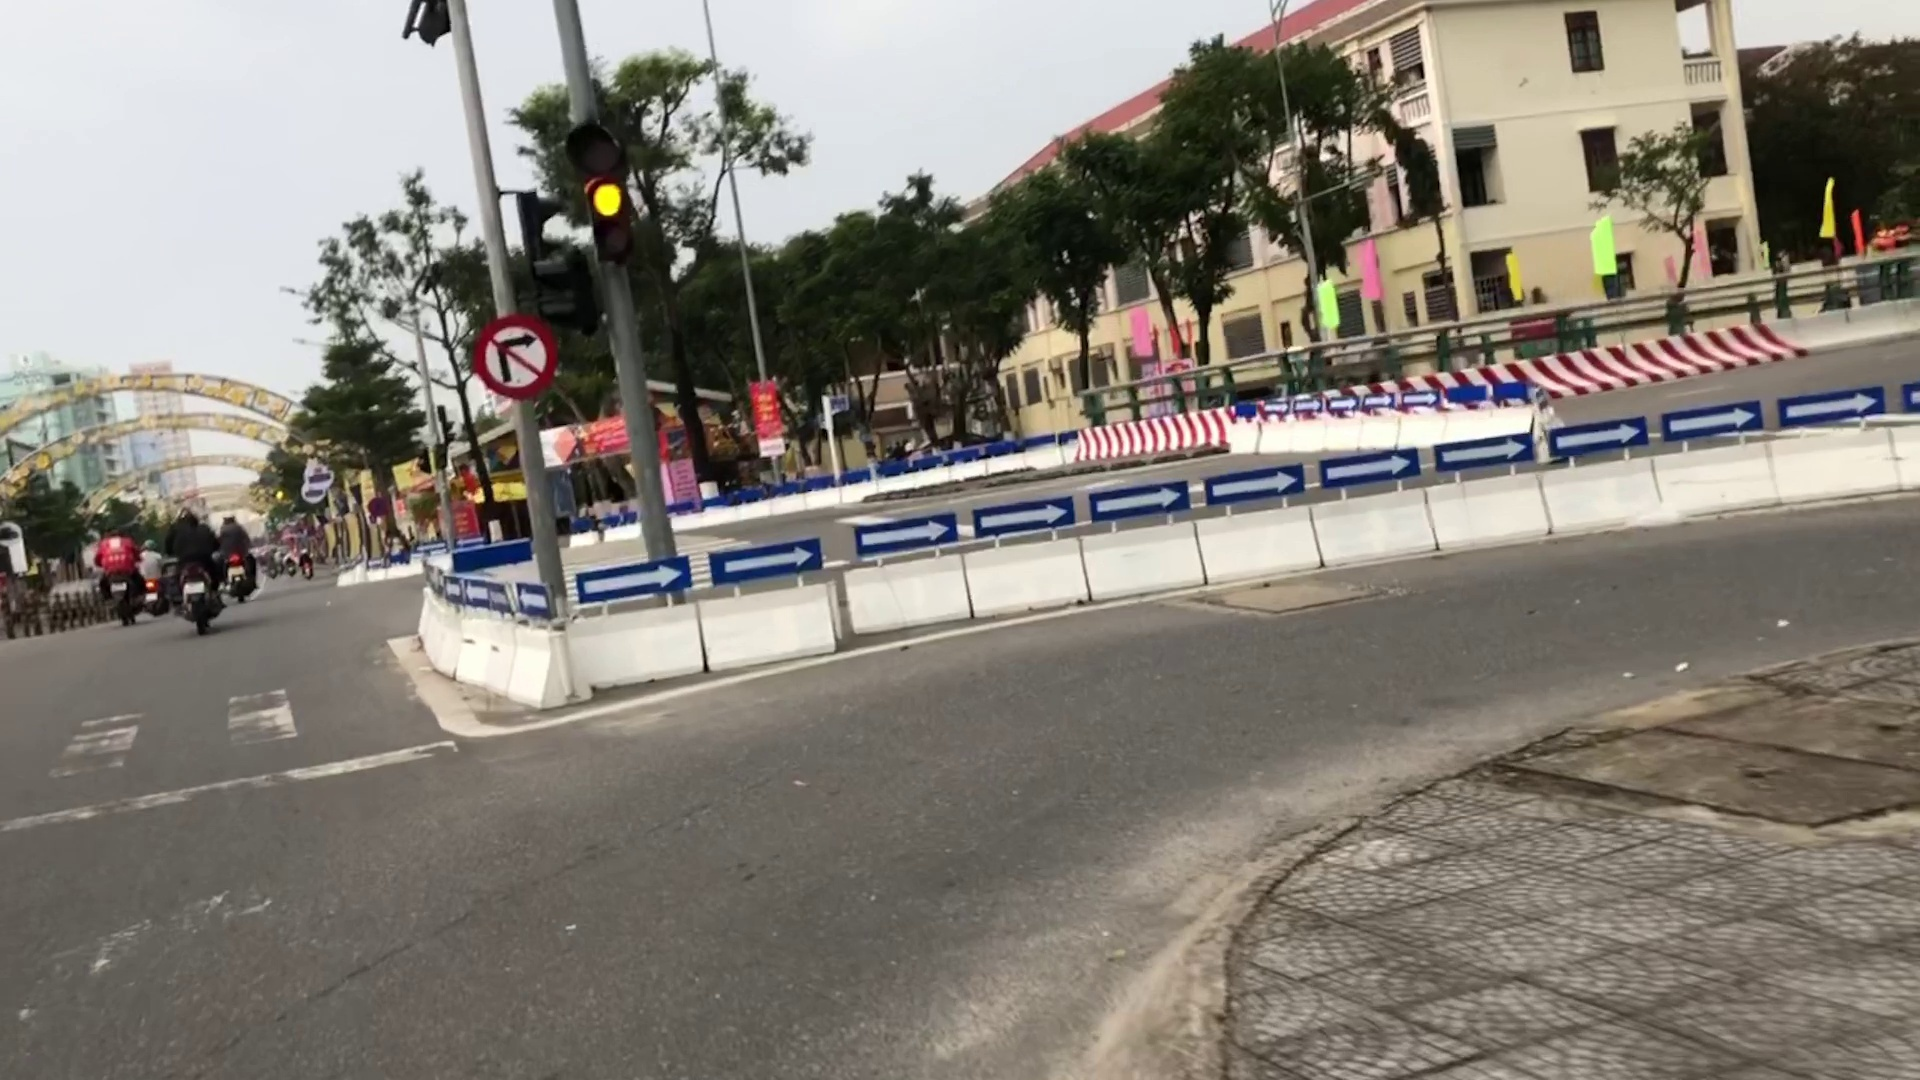Bien khac: (473, 314, 555, 398)
